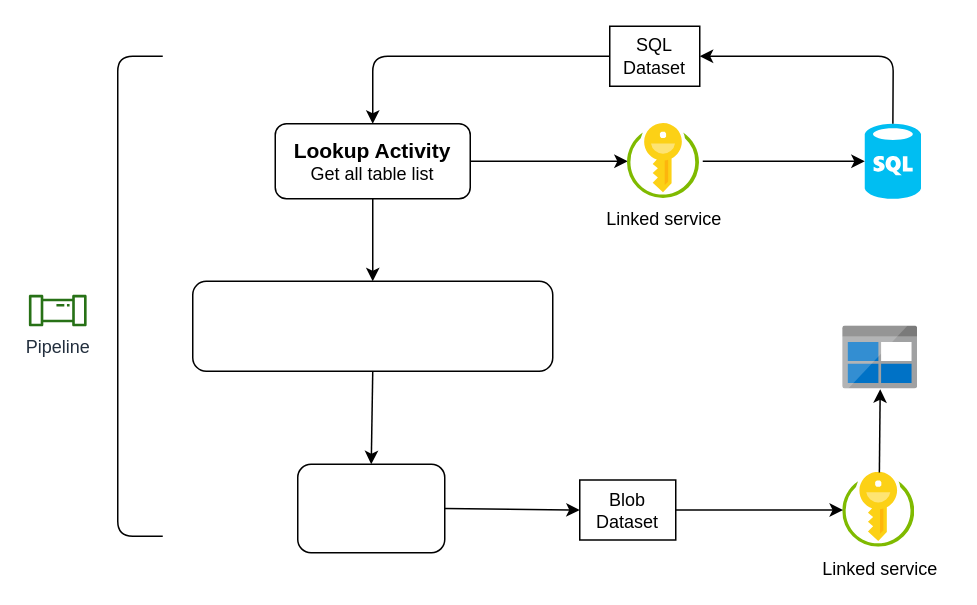
This 977x605 diagram has some shape labels left out. Each missing label, with the centre of its shape:
Copy Data Activity: the point at 370,508
For Each @{ activity('Lookup Activity').output.value }: the point at 372,325
SQL database: the point at 892,160
